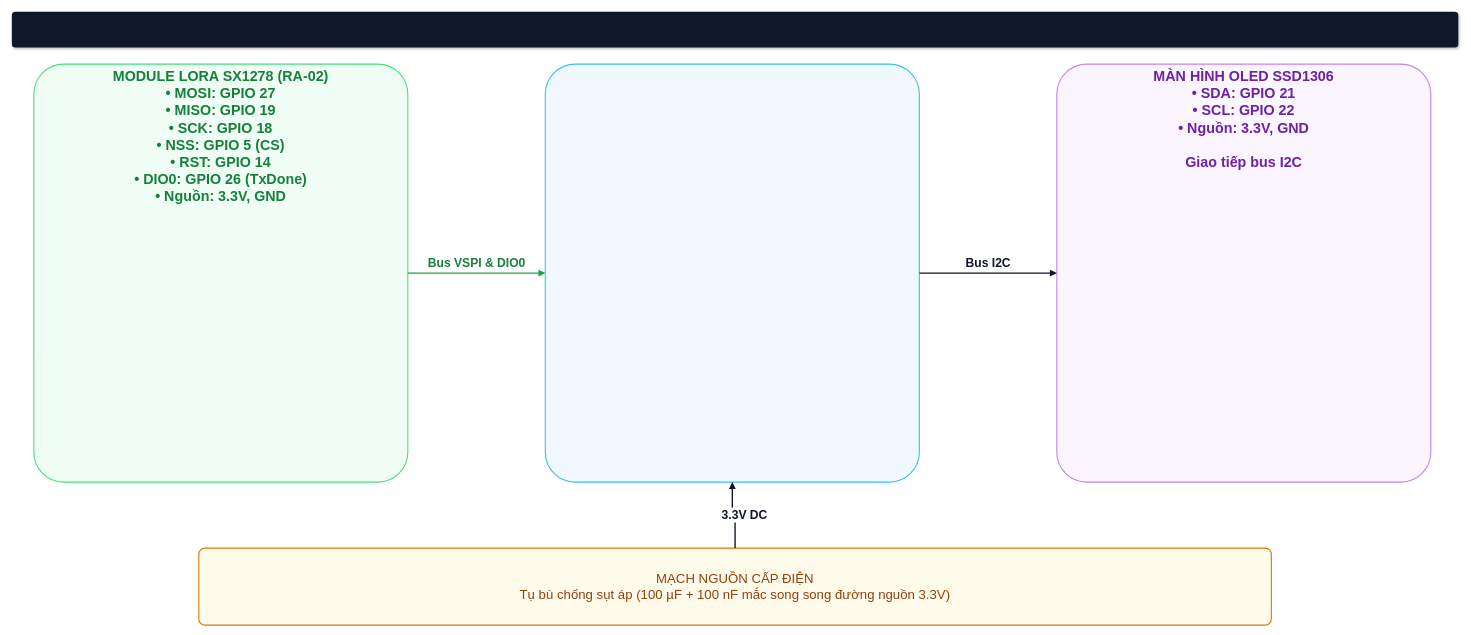
The diagram is 1471 pixels wide and 635 high, and some of its shapes have lost their labels. The centre of each missing label's shape, as x and y in pixels:
ESP32 DEVKIT V1 Dual-Core 240 MHz SRAM 520 KB | Flash 4 MB: the point at 732,272
SƠ ĐỒ ĐẤU NỐI PHẦN CỨNG END-NODE ESP32: the point at 735,30
